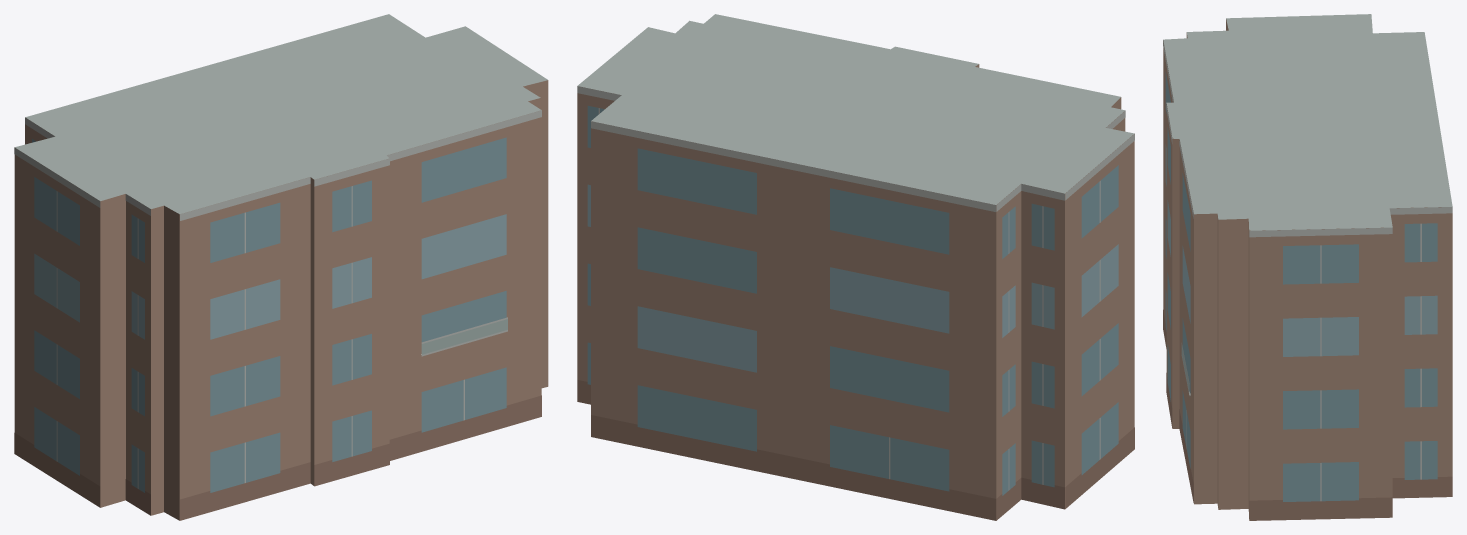
File: survey-upis-32907126.glb
3 views of the same model, side by side, from view 1: azimuth 30°, elevation 25°; view 2: azimuth 150°, elevation 25°; view 3: azimuth 270°, elevation 25° (orthographic). The views are drawn at different scales.
Parts seen in each view (by area): view 1: survey-upis-32907126.tmp; view 2: survey-upis-32907126.tmp; view 3: survey-upis-32907126.tmp.
Part boxes in pixels (<box>): survey-upis-32907126.tmp: <box>14,14,548,520</box>; survey-upis-32907126.tmp: <box>577,14,1134,520</box>; survey-upis-32907126.tmp: <box>1163,14,1452,520</box>.
Size of the model in its own units: 17.31 by 10.8 by 9.77.
